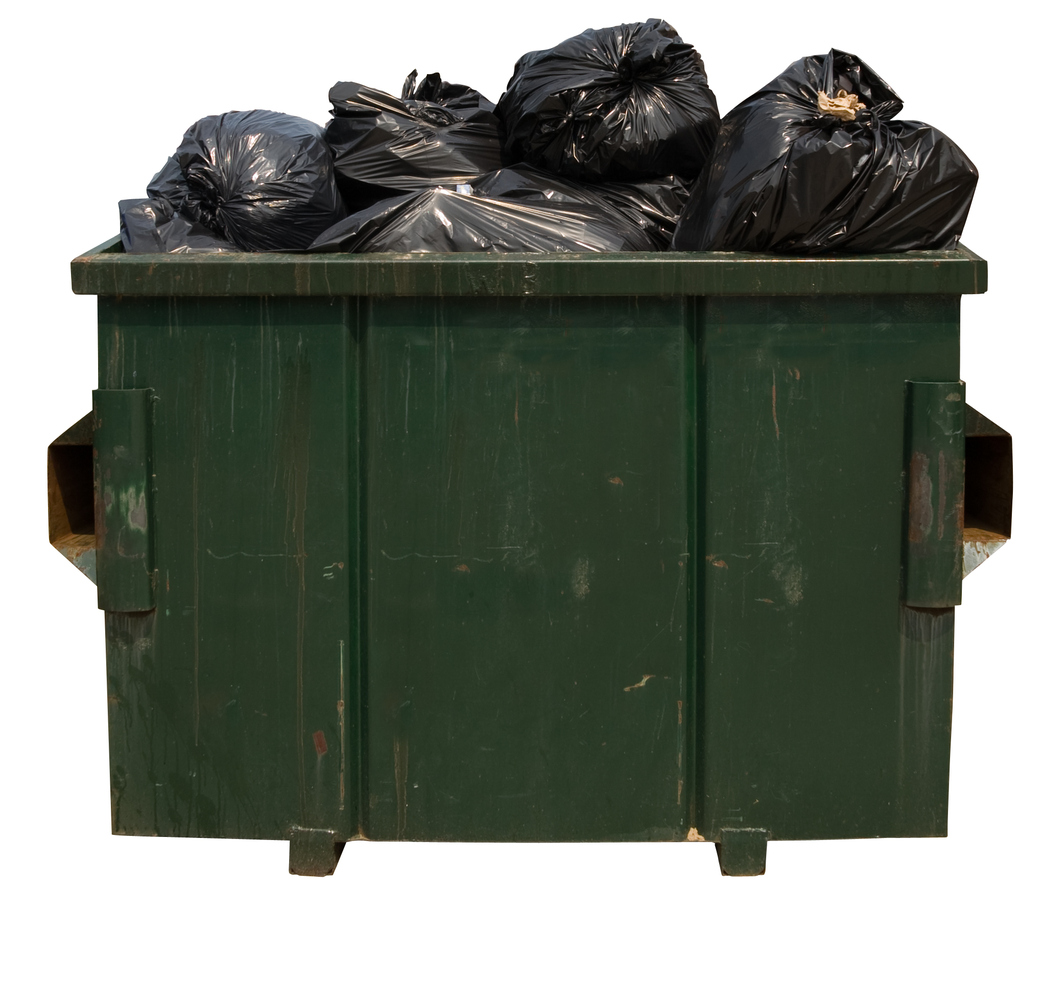Dumpster: (30, 181, 1021, 927)
